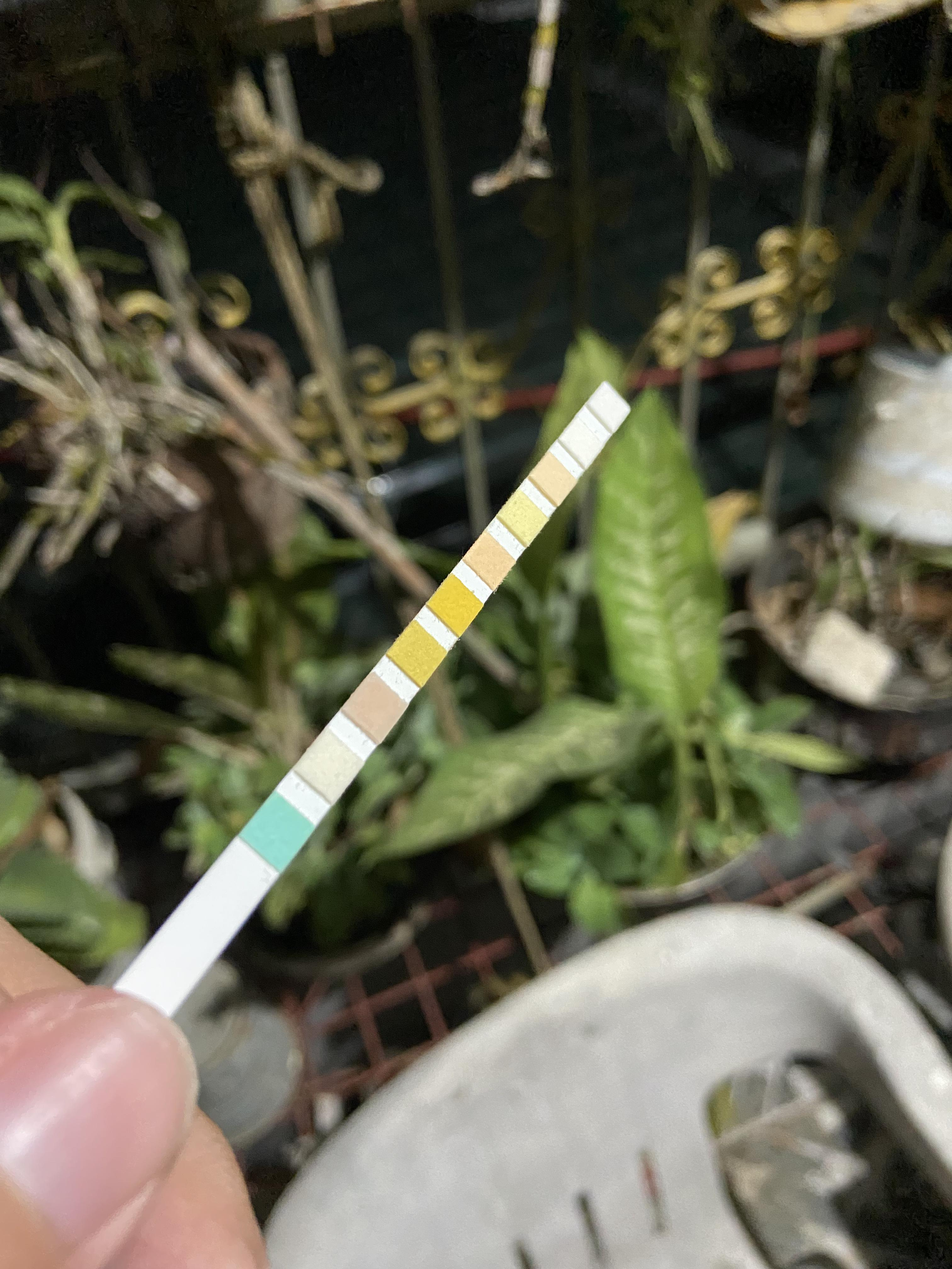Bilirubin: (310, 747, 349, 784)
Blood: (438, 589, 469, 619)
Glucose: (258, 811, 300, 851)
Ketone: (356, 690, 393, 725)
Leukocytes: (596, 392, 617, 418)
Nitrite: (568, 426, 588, 454)
Protein: (508, 501, 532, 530)
SpGravity: (400, 637, 434, 669)
Urobilinogen: (537, 465, 564, 488)
pH: (476, 544, 501, 575)
strip: (128, 382, 631, 1009)
